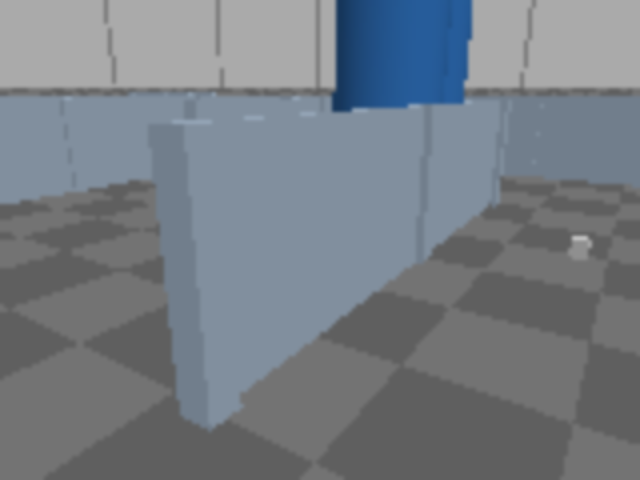puck: (568, 236, 592, 260)
